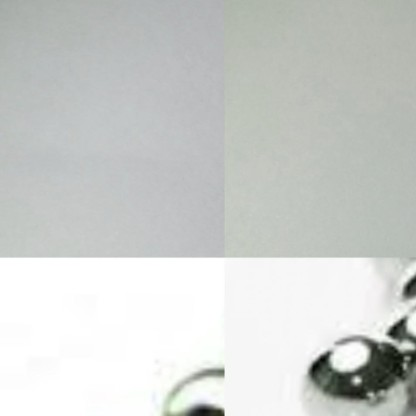ironball: (291, 325, 412, 415), (162, 366, 226, 416), (374, 259, 414, 323)
